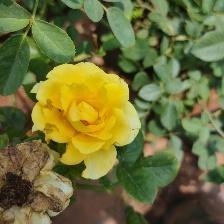rose: (30, 63, 144, 179)
